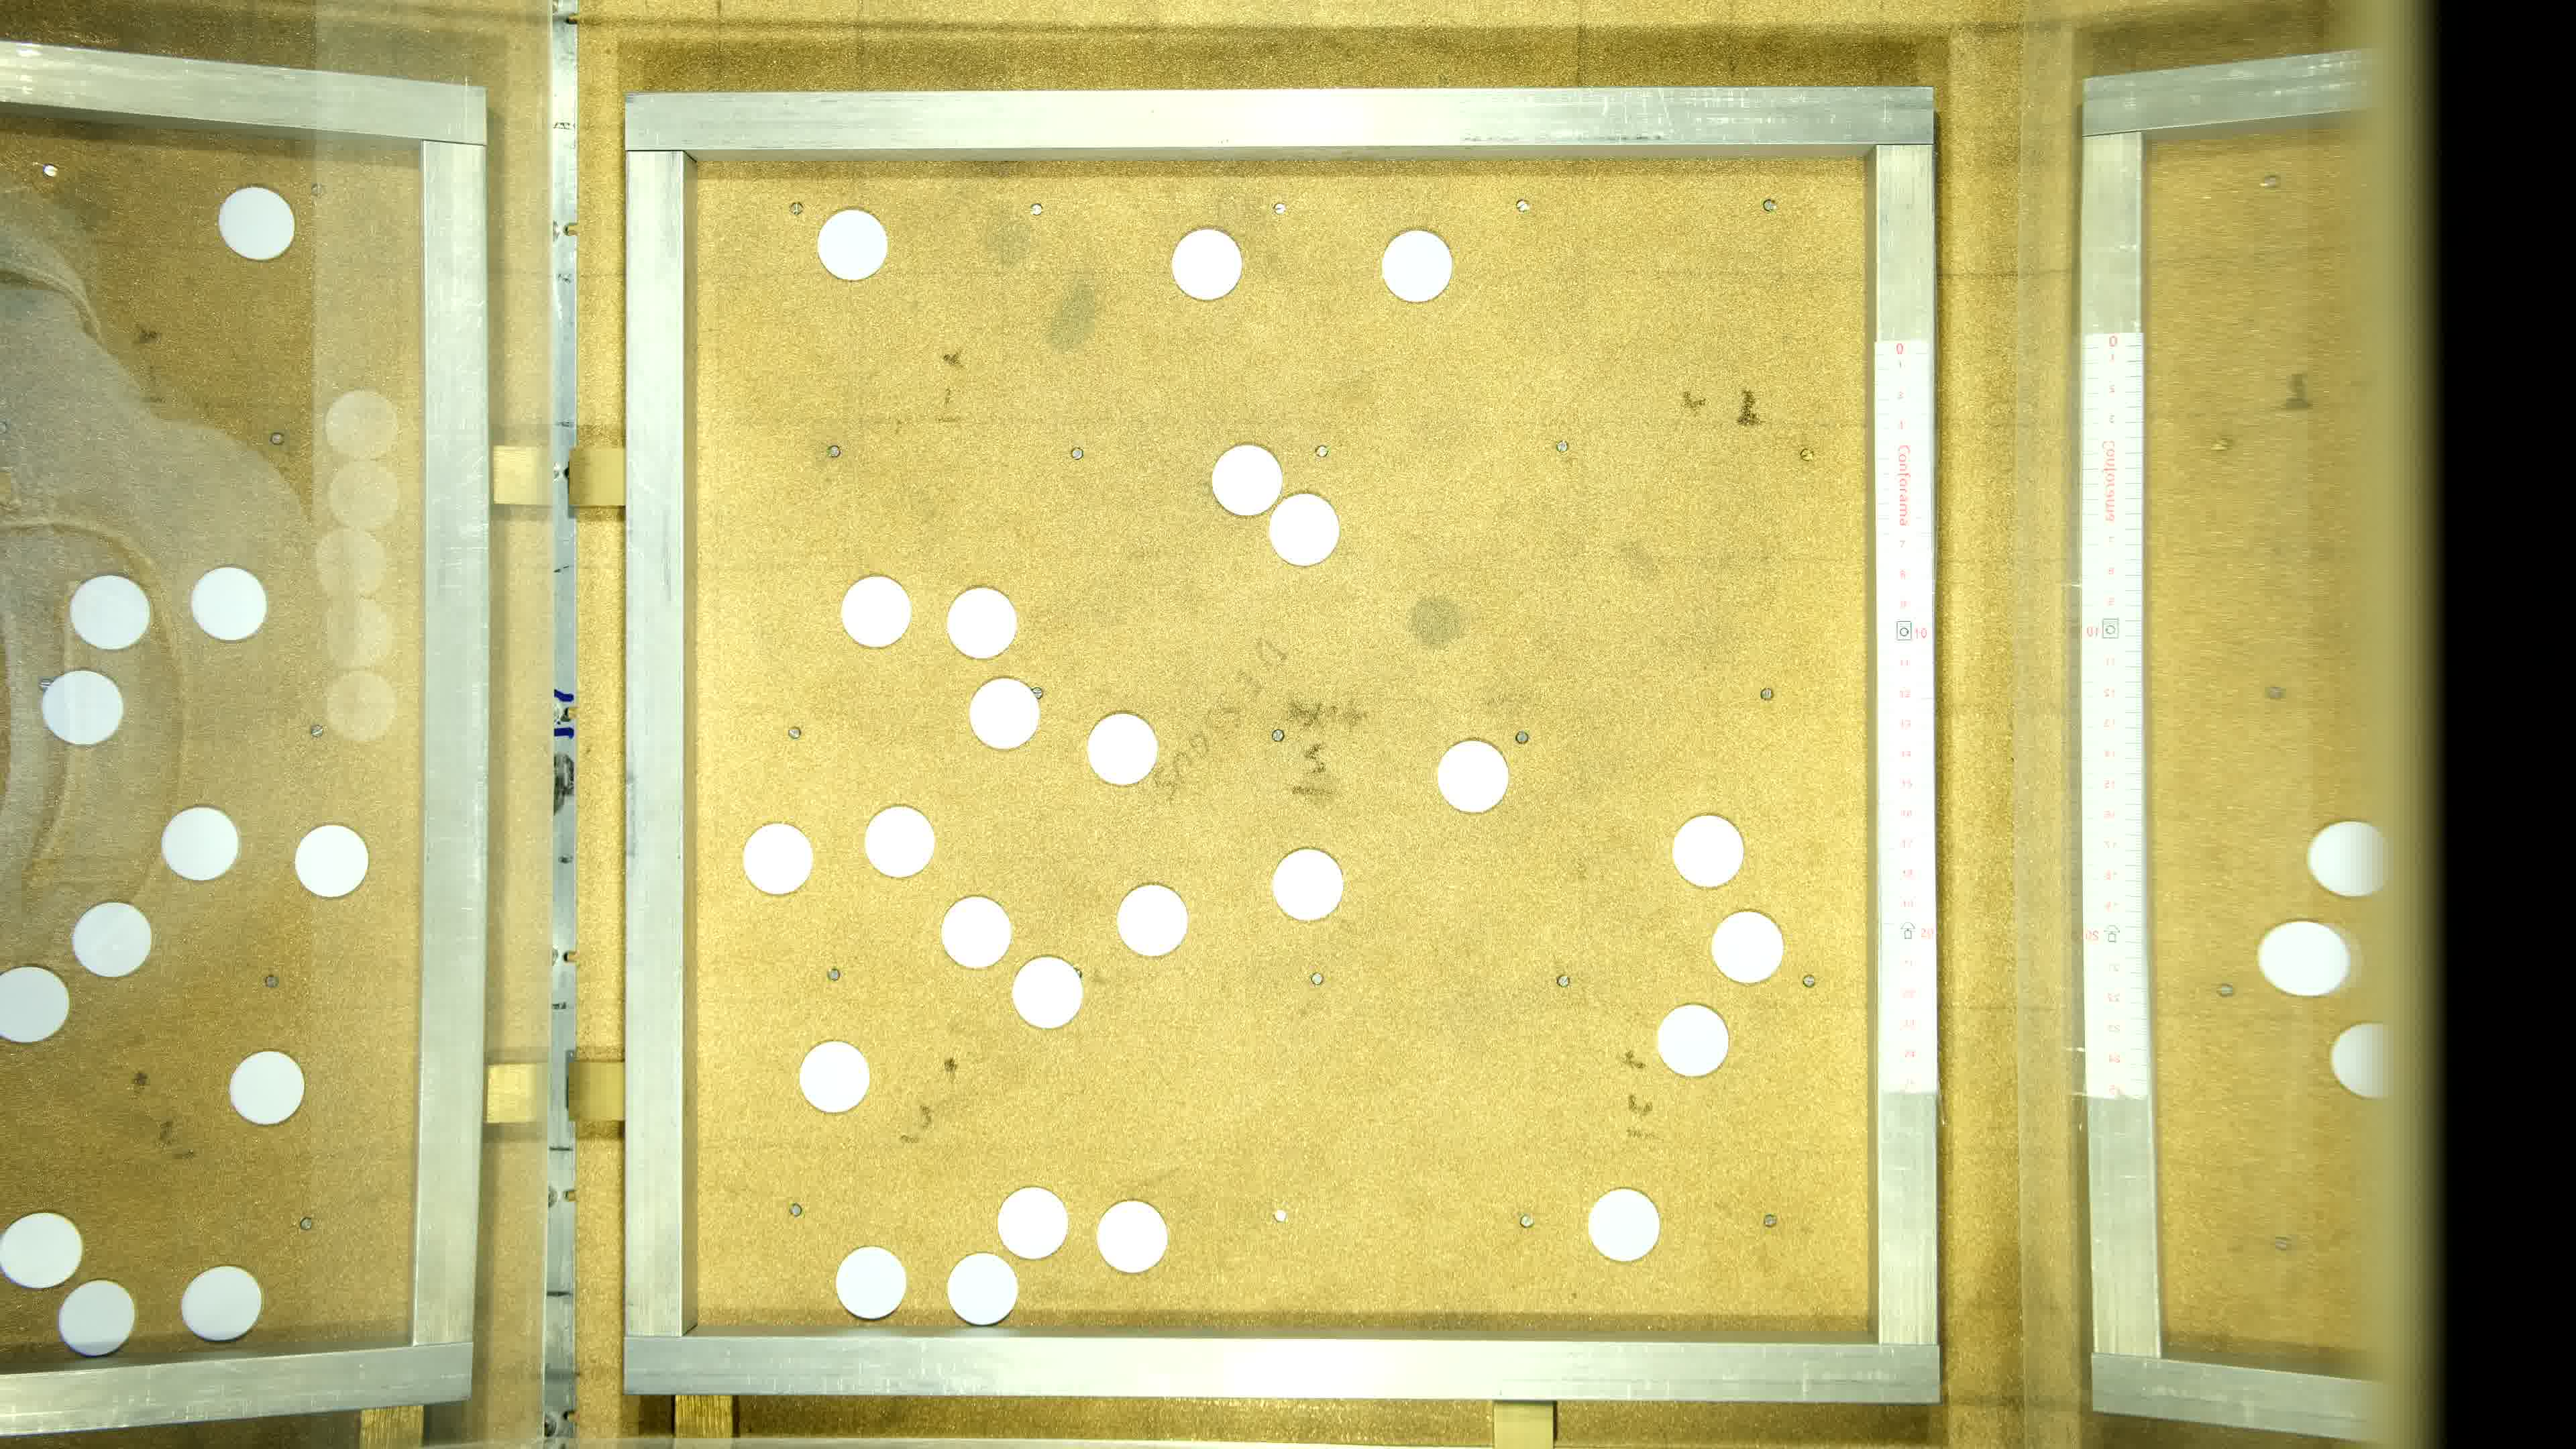pallet: (840, 577, 911, 649), (832, 1244, 901, 1316), (950, 1254, 1019, 1327), (1097, 1201, 1166, 1274), (1660, 1005, 1729, 1077), (998, 1184, 1067, 1256), (800, 1040, 869, 1113), (1010, 957, 1079, 1030), (941, 893, 1010, 966), (1116, 881, 1185, 954), (1274, 849, 1343, 922), (1437, 740, 1506, 812), (1090, 717, 1159, 789), (947, 586, 1016, 658), (1385, 232, 1454, 304), (1175, 228, 1244, 301), (817, 207, 886, 278), (1587, 1189, 1656, 1260), (863, 807, 932, 878), (741, 821, 810, 892), (1714, 913, 1783, 984), (1674, 816, 1743, 886), (973, 681, 1042, 752), (1274, 497, 1343, 568), (1212, 444, 1281, 515)
